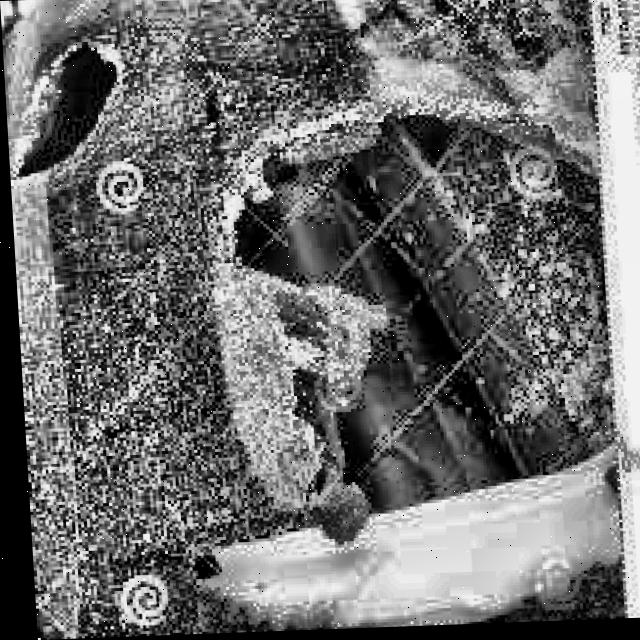glass_shatter: (202, 96, 619, 526), (6, 19, 125, 181)
